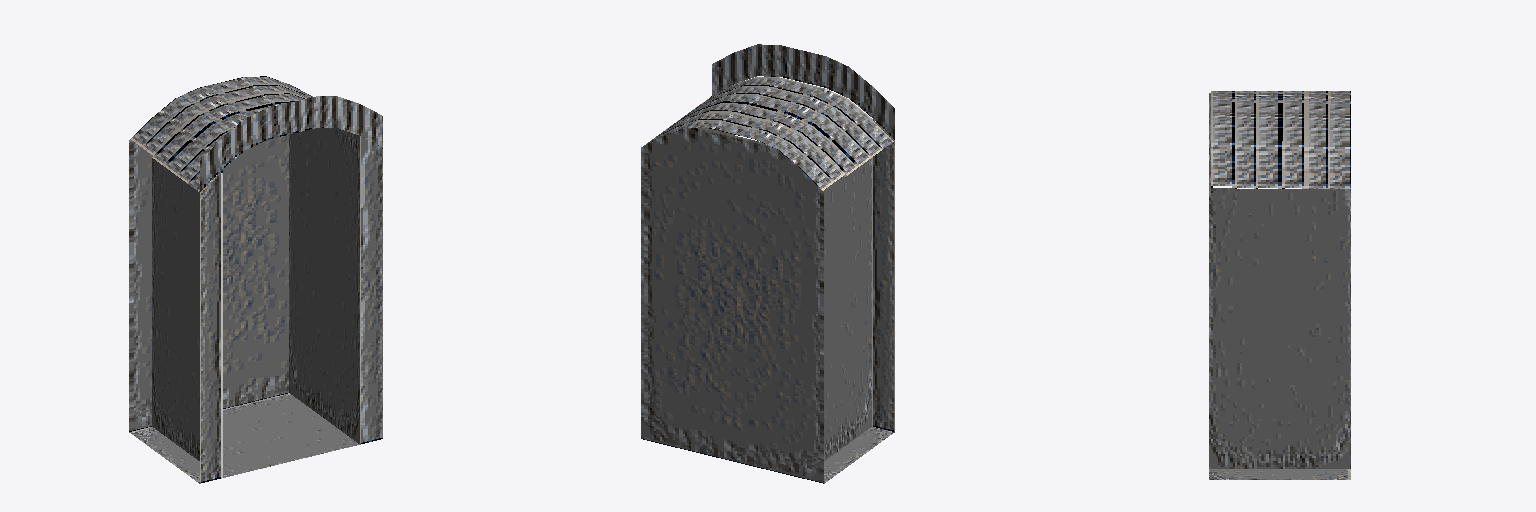
3 views of the same model, side by side, from view 1: azimuth 30°, elevation 25°; view 2: azimuth 150°, elevation 25°; view 3: azimuth 270°, elevation 25° (orthographic).
Parts seen in each view (by area): view 1: polySurface11 DeadEnd, DeadEnd polySurface16, DeadEnd pCube12, DeadEnd polySurface15, DeadEnd polySurface12, DeadEnd polySurface14, DeadEnd polySurface13; view 2: polySurface11 DeadEnd, DeadEnd pCube12, DeadEnd polySurface15, DeadEnd polySurface13, DeadEnd polySurface12; view 3: DeadEnd polySurface16, DeadEnd pCube12, DeadEnd polySurface12.
Part boxes in pixels (x1,y1,x2,y2): polySurface11 DeadEnd: (129,135,288,431); DeadEnd polySurface16: (289,128,359,443); DeadEnd pCube12: (131,76,382,191); DeadEnd polySurface15: (152,158,222,460); DeadEnd polySurface12: (129,393,359,483); DeadEnd polySurface14: (360,136,382,444); DeadEnd polySurface13: (200,171,222,483); polySurface11 DeadEnd: (641,128,823,483); DeadEnd pCube12: (641,44,894,190); DeadEnd polySurface15: (823,158,871,460); DeadEnd polySurface13: (872,119,894,431); DeadEnd polySurface12: (824,427,894,483); DeadEnd polySurface16: (1209,160,1350,468); DeadEnd pCube12: (1211,91,1350,188); DeadEnd polySurface12: (1209,469,1350,479).
Size of the model in its own units: 6 by 11.24 by 4.
1 materials, 1 textured.